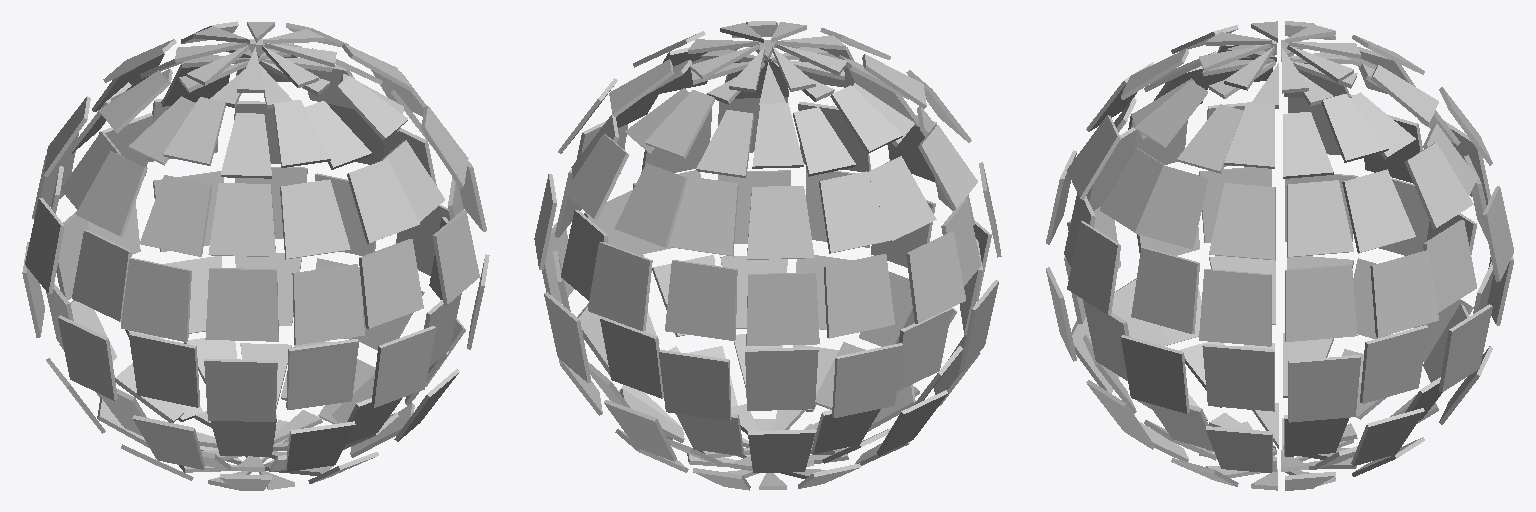
File: staggersphere.obj
3 renders of one model, left to right at view 1: azimuth 30°, elevation 25°; view 2: azimuth 150°, elevation 25°; view 3: azimuth 270°, elevation 25°, orthographic.
Parts seen in each view (by area): view 1: sphere1_extract2; view 2: sphere1_extract2; view 3: sphere1_extract2.
Boxes of the visible parts, x1=… form: sphere1_extract2: x1=22, y1=21, x2=489, y2=490; sphere1_extract2: x1=534, y1=21, x2=1001, y2=490; sphere1_extract2: x1=1046, y1=21, x2=1513, y2=490.
Bounding box in the file's own units: 2.49 × 2.5 × 2.49.